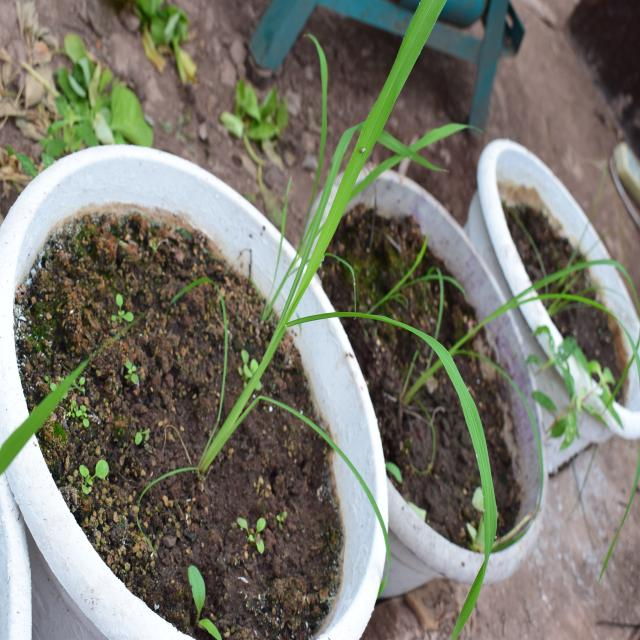barnyard_grass: (249, 0, 515, 576)
